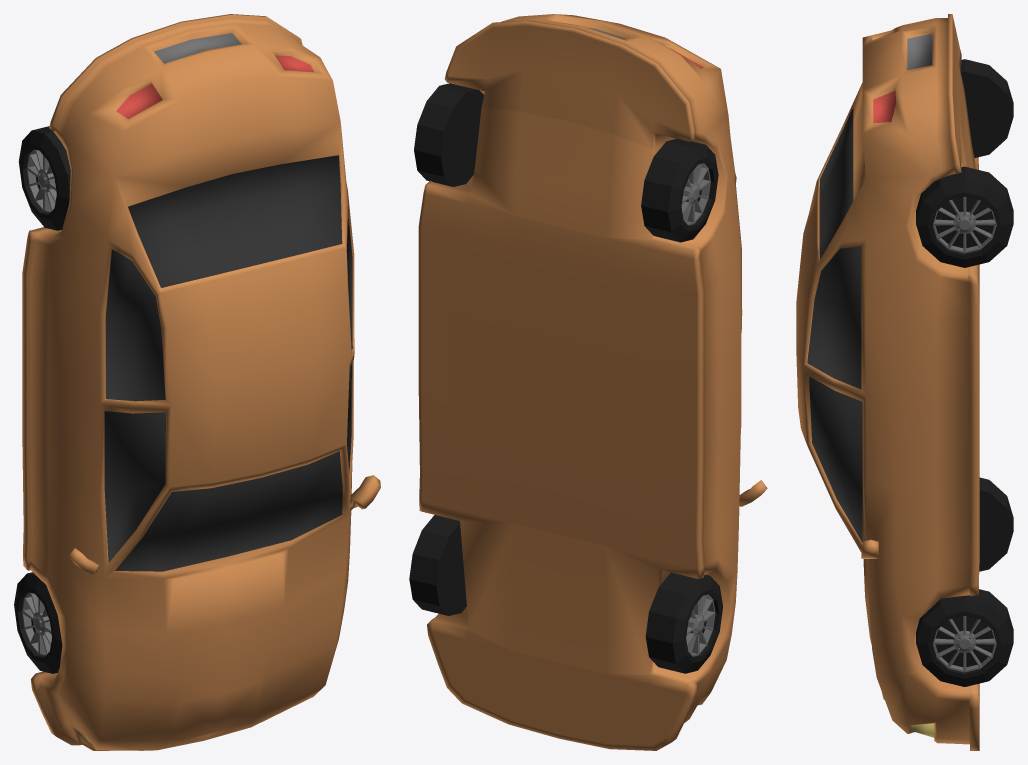
File: TestCar.gltf
3 renders of one model, left to right at view 1: azimuth 30°, elevation 25°; view 2: azimuth 150°, elevation 25°; view 3: azimuth 270°, elevation 25°, orthographic. The views are drawn at different scales.
Parts seen in each view (by area): view 1: SportsCar_Cube.005, SportsCar_BackWheels_Cylinder.004, SportsCar_FrontRightWheel_Cylinder.014; view 2: SportsCar_Cube.005, SportsCar_BackWheels_Cylinder.004, SportsCar_FrontRightWheel_Cylinder.014, SportsCar_FrontLeftWheel_Cylinder.013; view 3: SportsCar_Cube.005, SportsCar_BackWheels_Cylinder.004, SportsCar_FrontLeftWheel_Cylinder.013, SportsCar_FrontRightWheel_Cylinder.014.
Part boxes in pixels (x1,y1,x2,y2): SportsCar_Cube.005: [22, 14, 380, 750]; SportsCar_BackWheels_Cylinder.004: [18, 126, 70, 230]; SportsCar_FrontRightWheel_Cylinder.014: [14, 572, 62, 673]; SportsCar_Cube.005: [418, 14, 767, 750]; SportsCar_BackWheels_Cylinder.004: [414, 83, 718, 242]; SportsCar_FrontRightWheel_Cylinder.014: [645, 572, 722, 673]; SportsCar_FrontLeftWheel_Cylinder.013: [409, 515, 466, 615]; SportsCar_Cube.005: [796, 14, 979, 750]; SportsCar_BackWheels_Cylinder.004: [916, 59, 1013, 267]; SportsCar_FrontLeftWheel_Cylinder.013: [916, 589, 1013, 686]; SportsCar_FrontRightWheel_Cylinder.014: [979, 477, 1013, 571].
Size of the model in its own units: 1.8 by 3.97 by 1.16.
